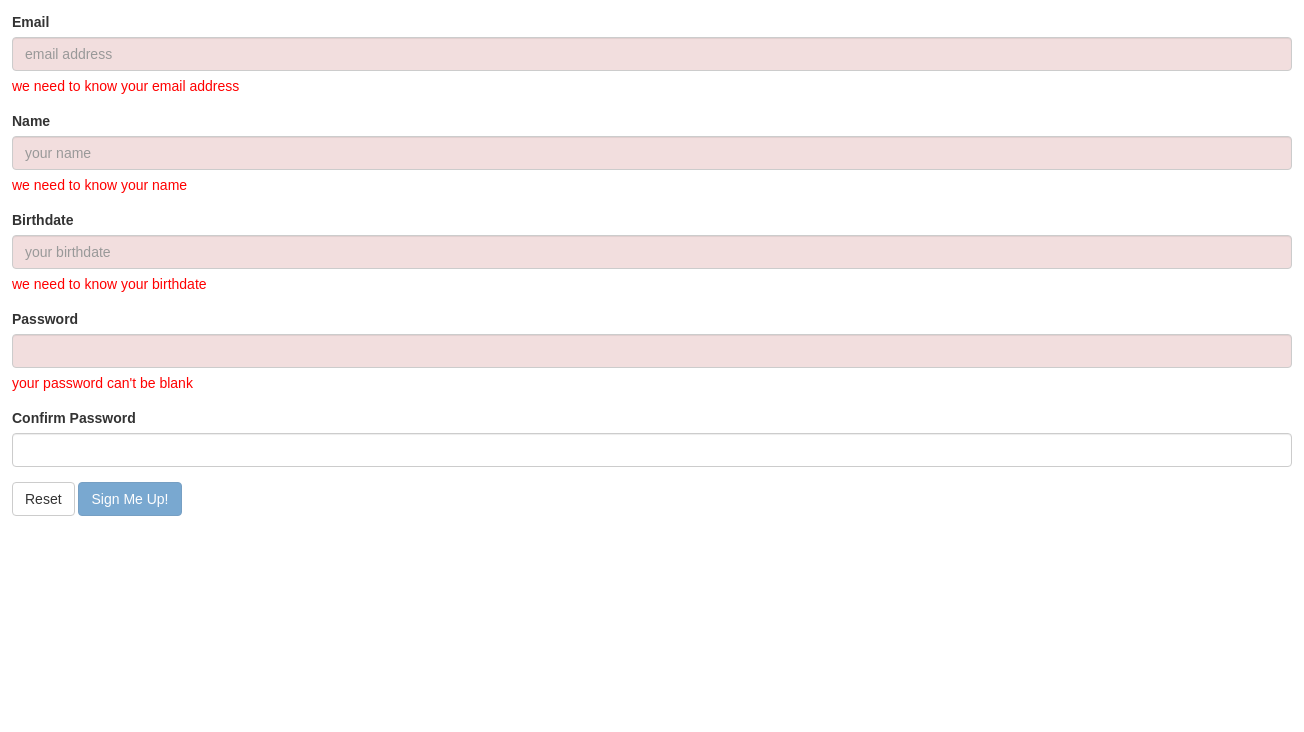
Test case: behavior of the form submit button › should be enabled on valid inputs
The image size is (1304, 732).
all inputs are valid
Type "a@gmail.com" into the field labelled "Email" at (652, 54), box left=12, top=37, right=1292, bottom=71
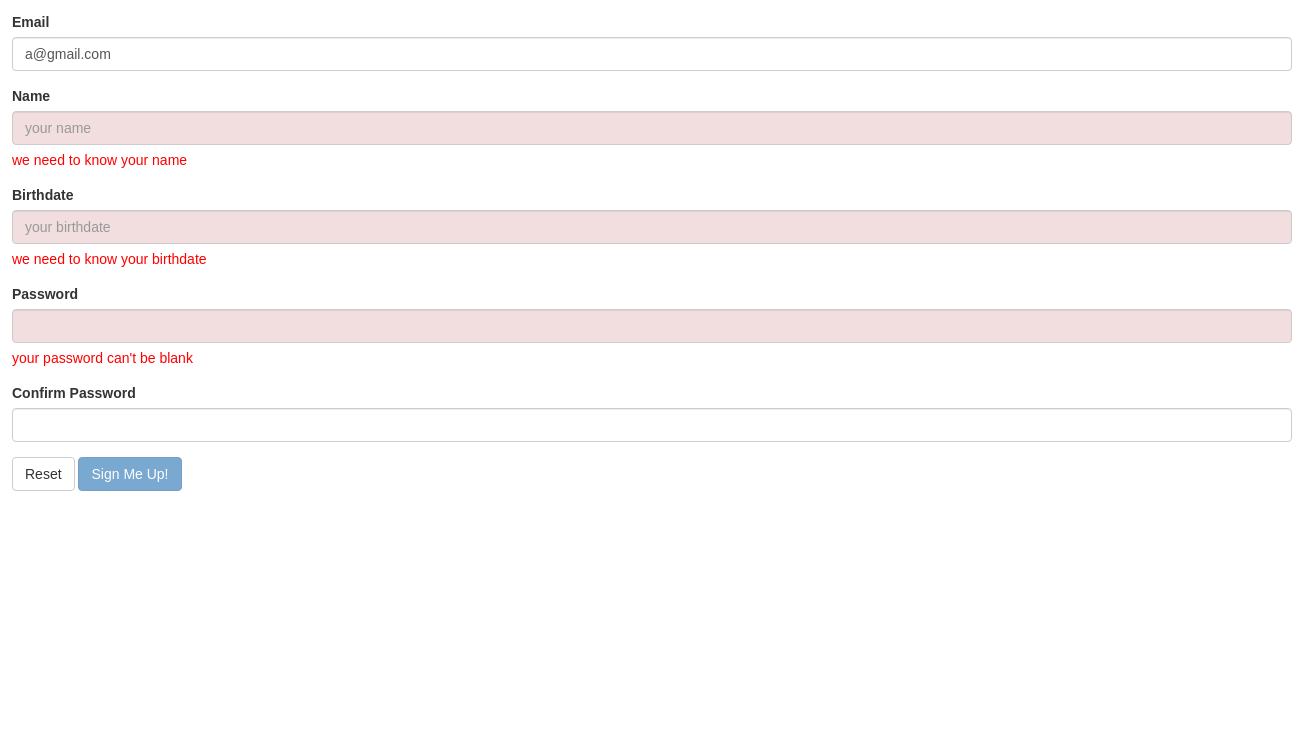
Type "name" into the field labelled "Name" at (652, 128), box left=12, top=111, right=1292, bottom=145
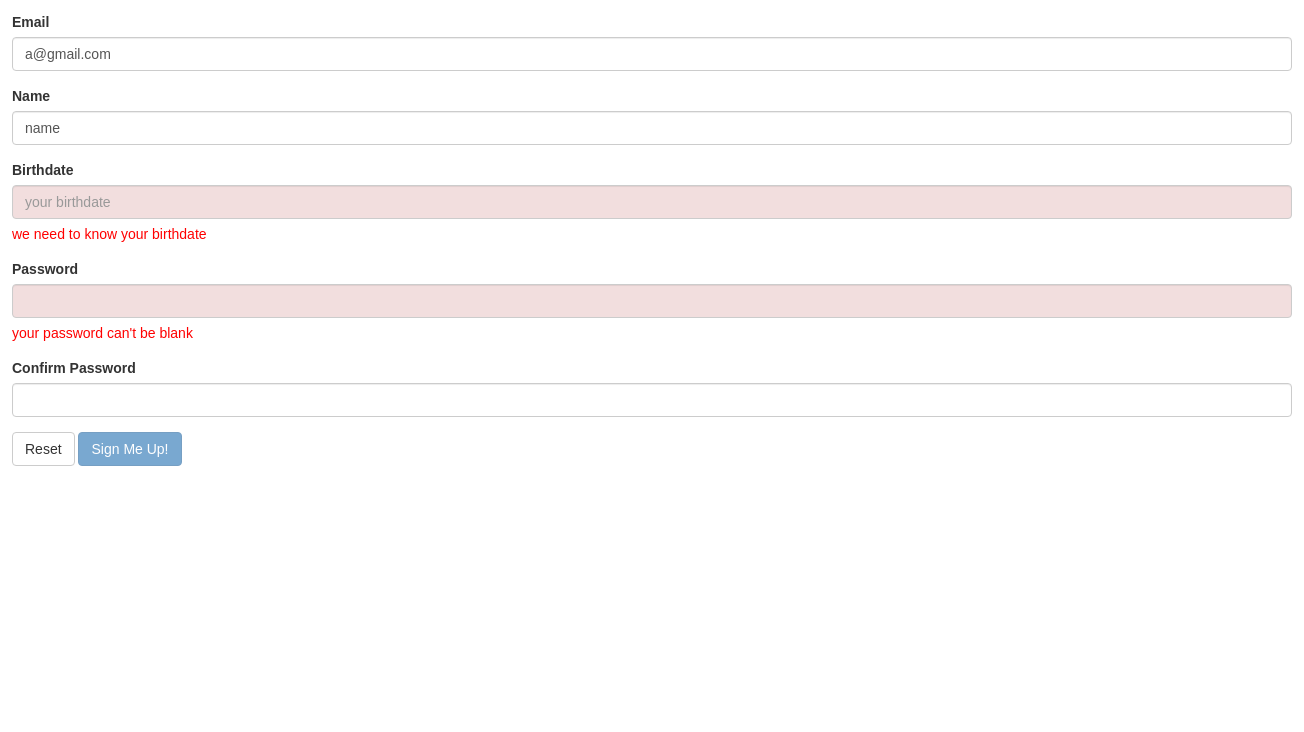
Type "03/25/1990" into the field labelled "Birthdate" at (652, 202), box left=12, top=185, right=1292, bottom=219
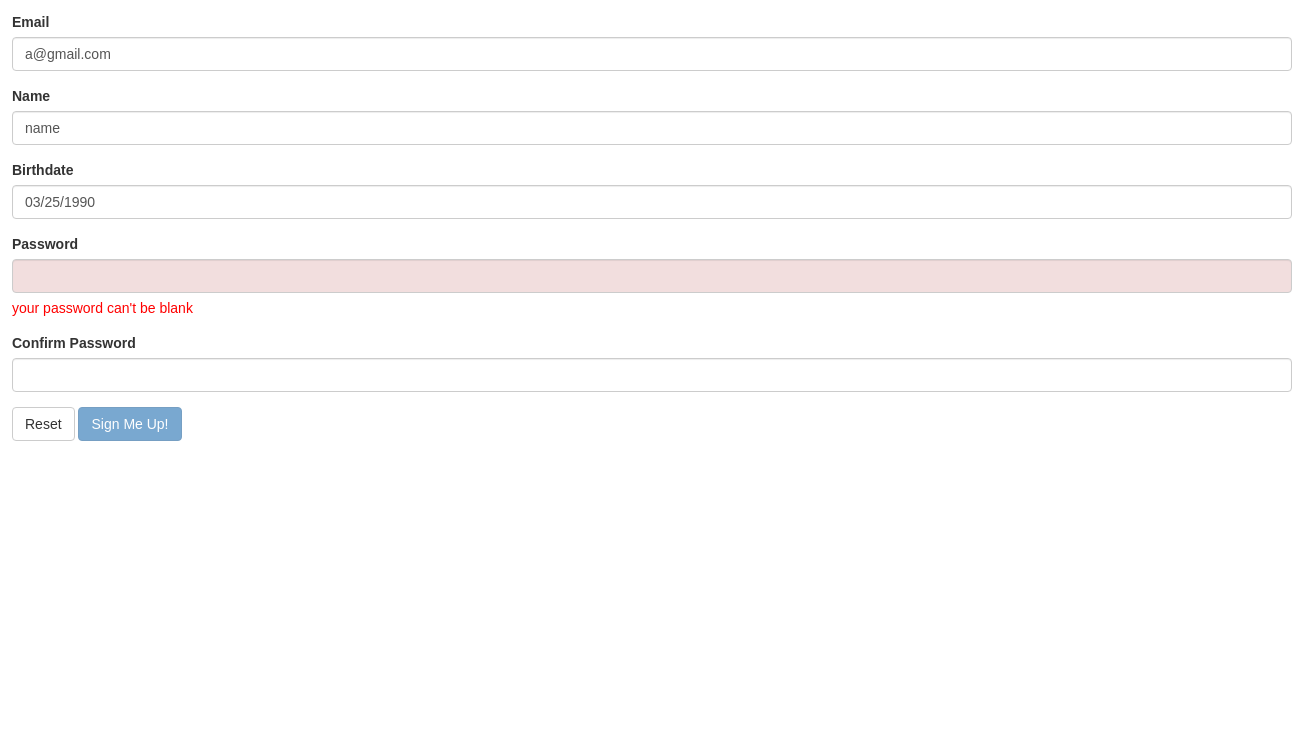
Type "123456" into the password field labelled "Password" at (652, 276), box left=12, top=259, right=1292, bottom=293
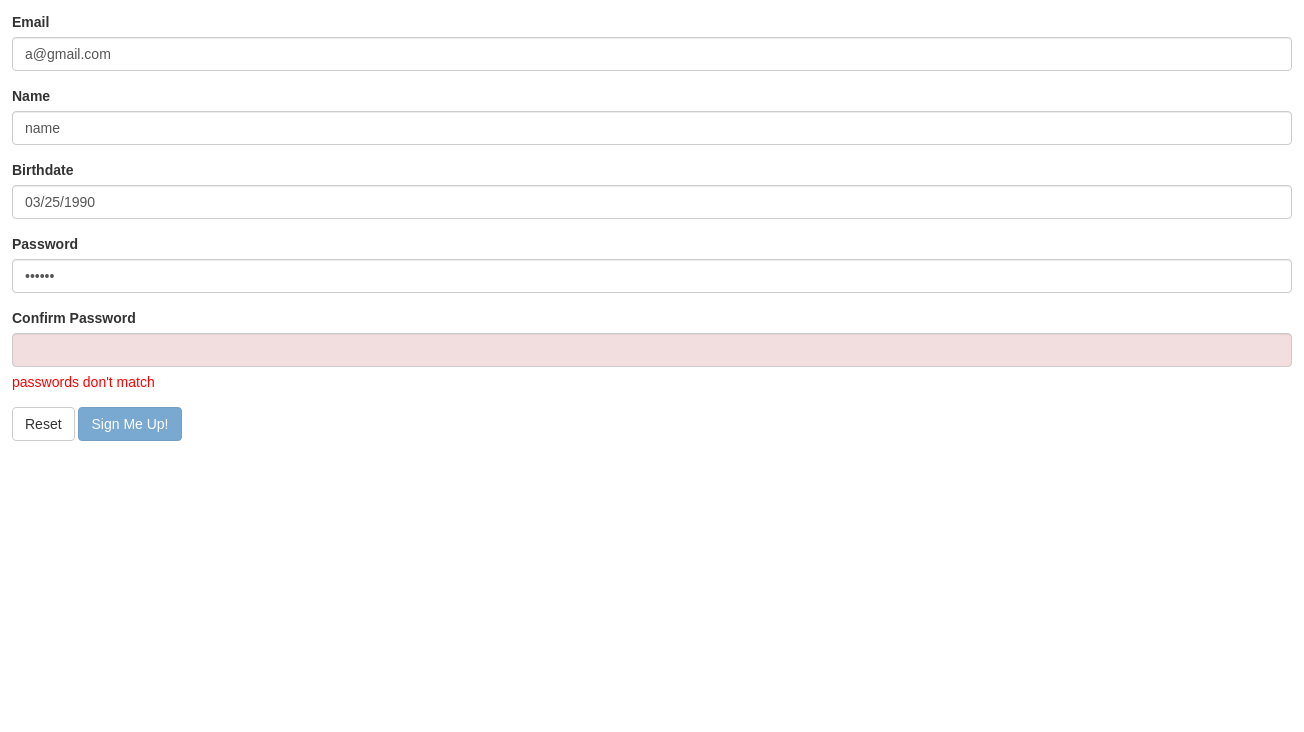
Type "123456" into the password field labelled "Confirm Password" at (652, 350), box left=12, top=333, right=1292, bottom=367
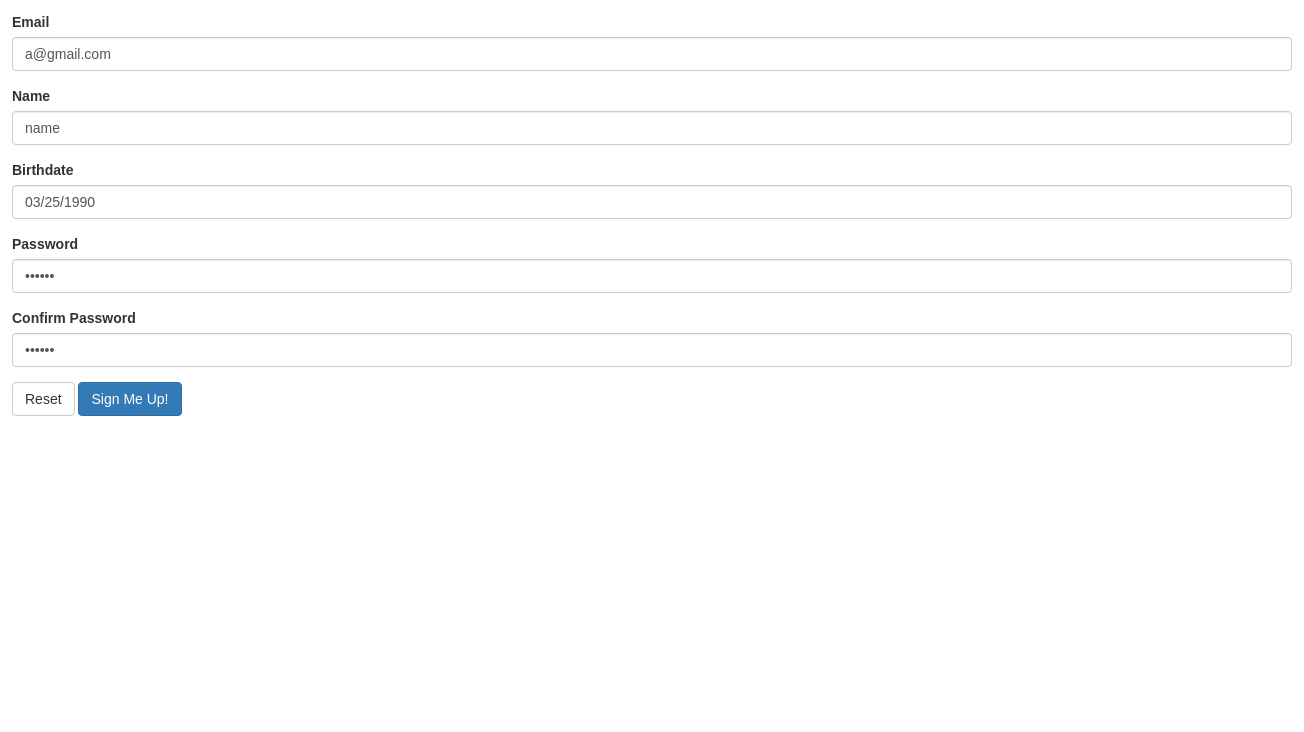
Now the button with id "submitButton" is enabled, box left=78, top=382, right=182, bottom=416
